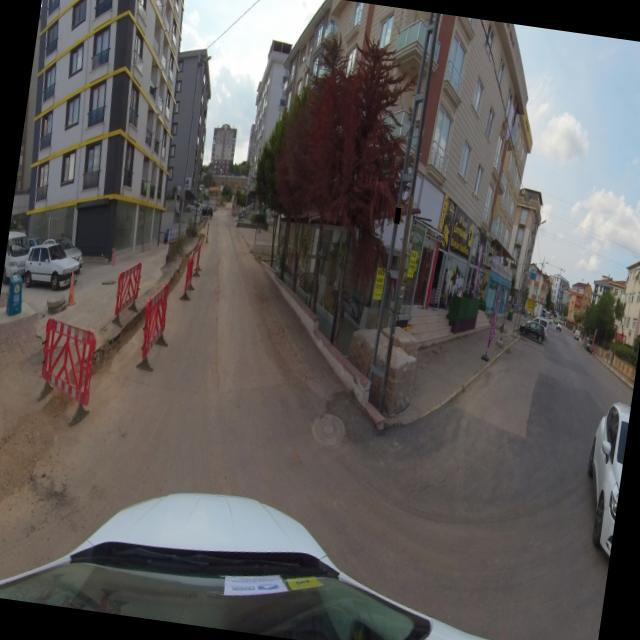Utility Pole Information Plate: (394, 207, 402, 224)
